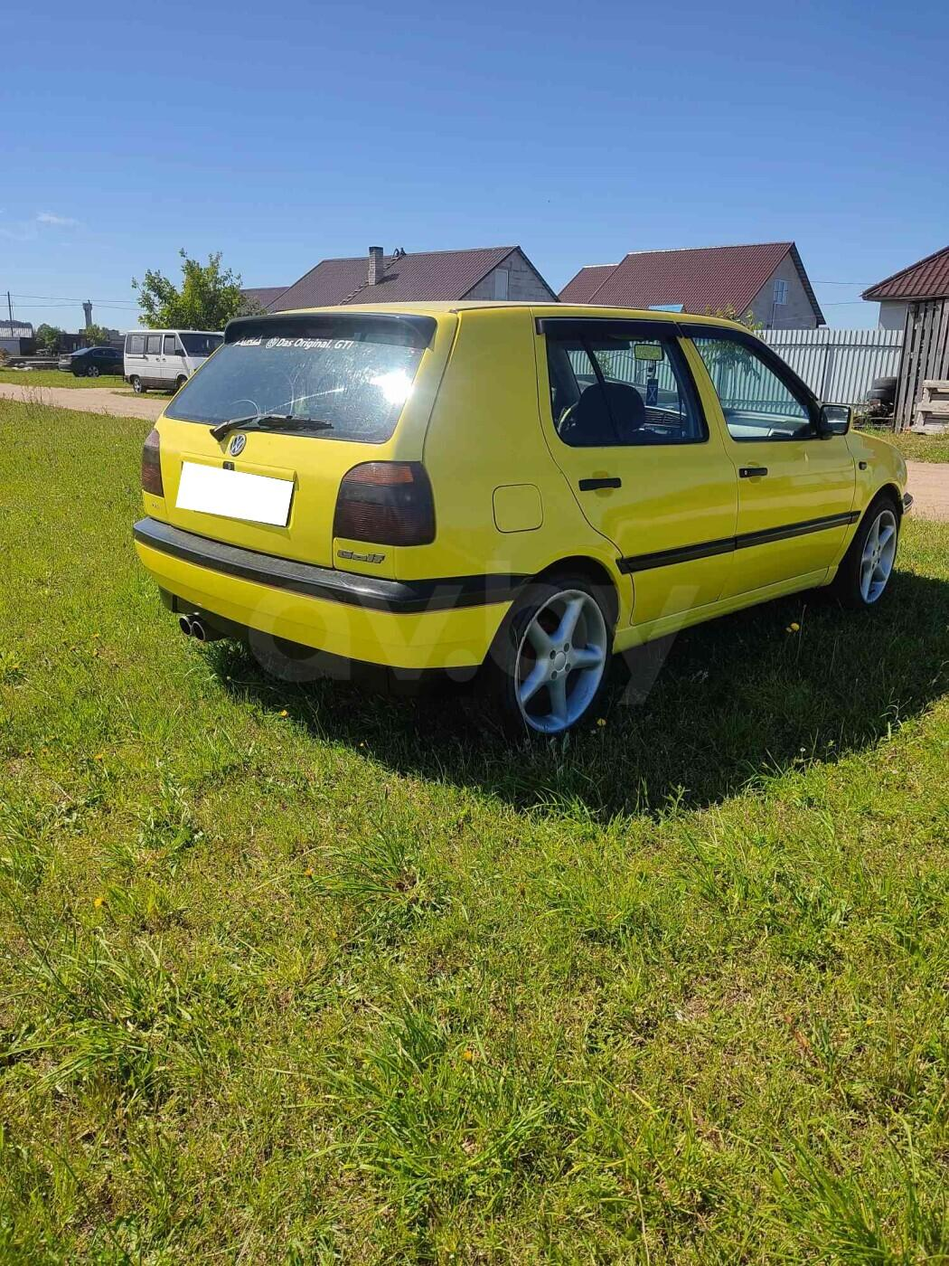Golf_1991-2000: (136, 297, 919, 754)
